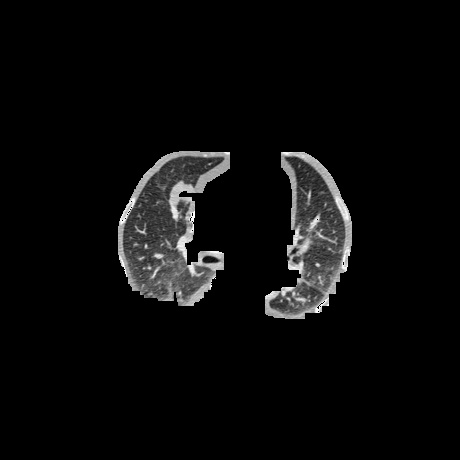PN: (170, 183, 190, 203)
